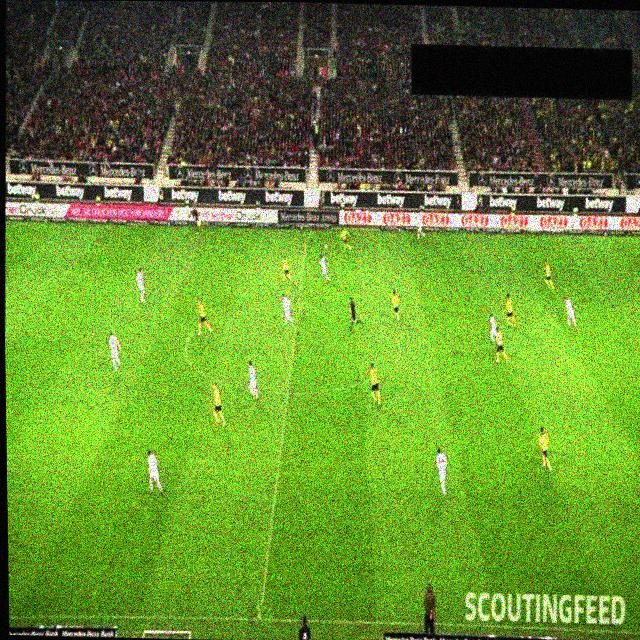bigarea_top_inner: (637, 269, 640, 281)
halfcircle_bottom: (282, 388, 293, 399)
halfcircle_top: (293, 300, 304, 312)
midline_bottom_intersection: (246, 604, 273, 630), (535, 618, 546, 630)
midline_top_intersection: (300, 226, 312, 238)
